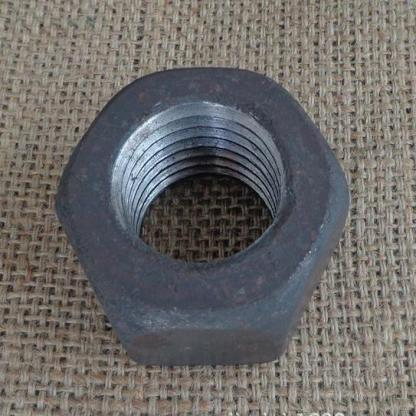FOD: (49, 60, 352, 372)
